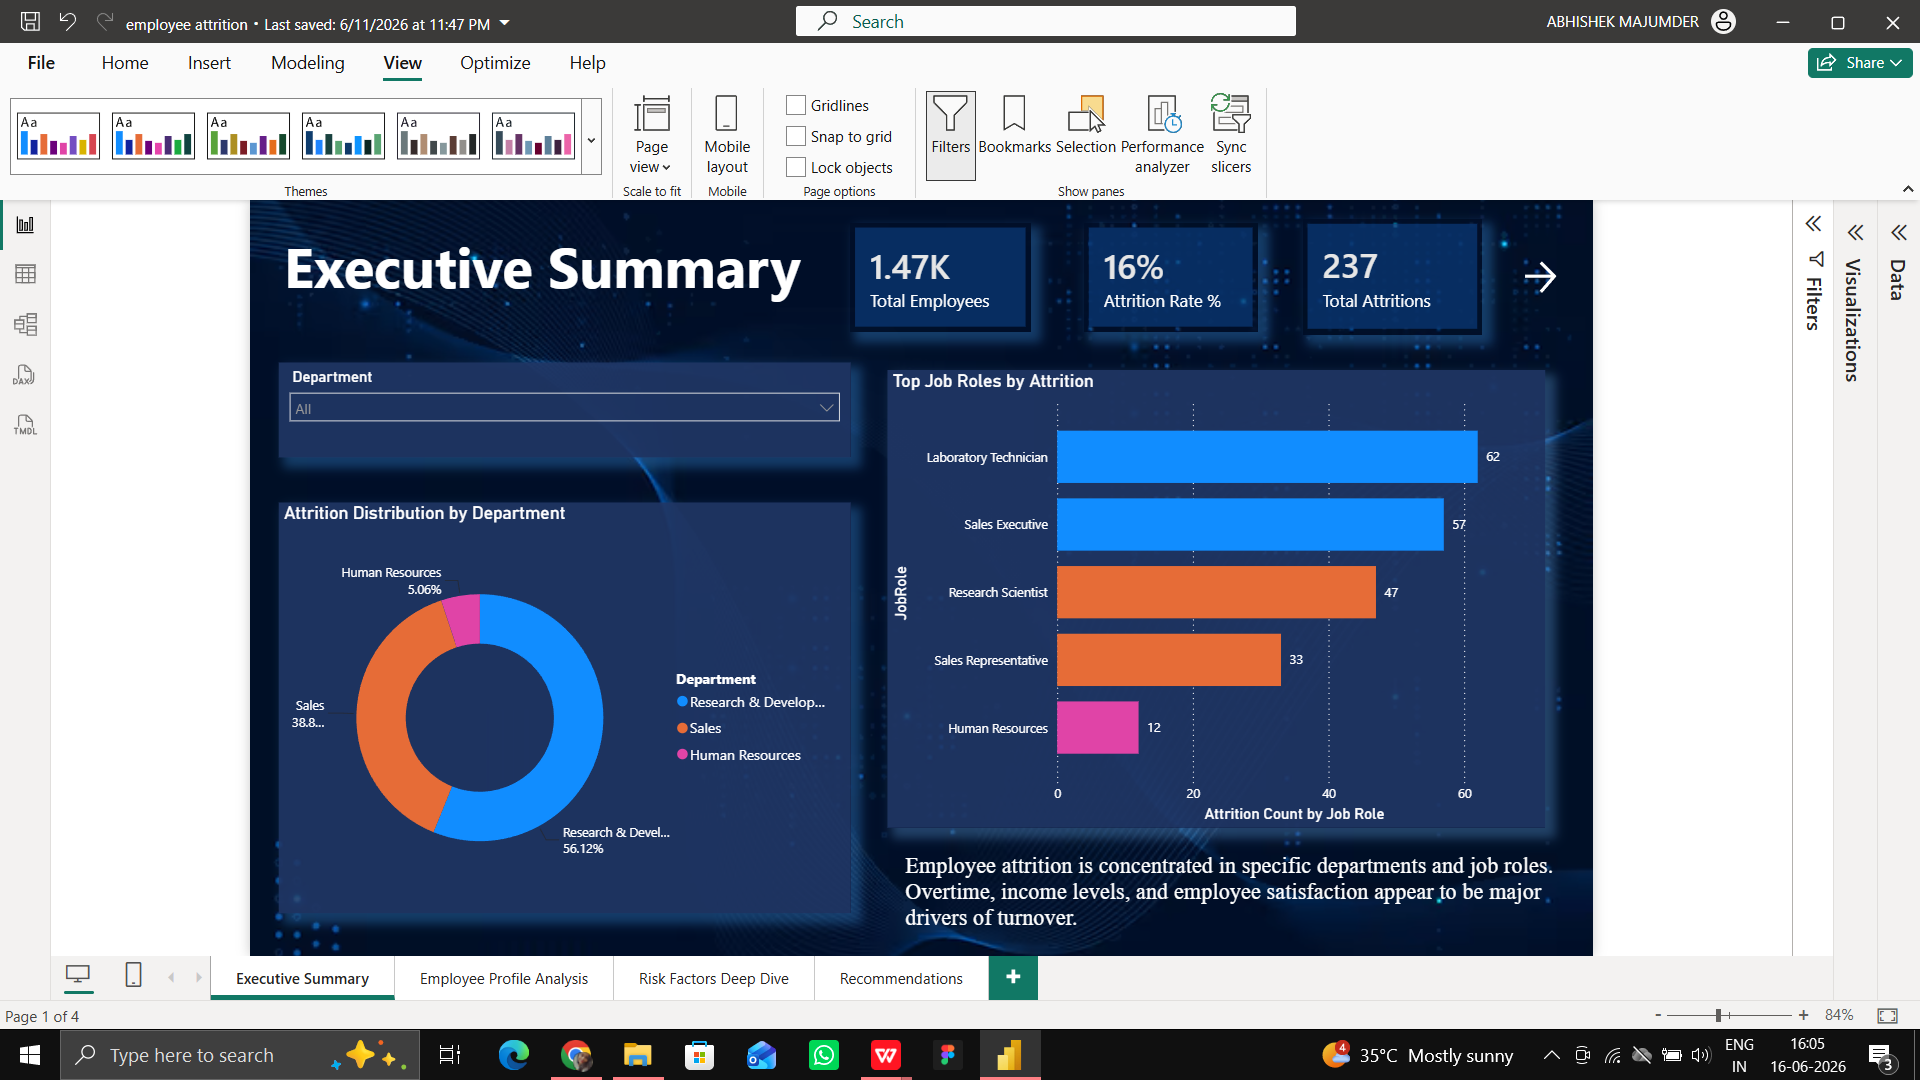

This screenshot's page, from the dashboard's own definition file:
{"tool":"powerbi","page":{"name":"Executive Summary","canvas":[1280,720],"ordinal":0},"visuals":[{"type":"textbox","box":[27.8,21.1,505.6,92.2],"z":0},{"type":"cardVisual","fields":{"Data":["Employee.Total Attritions"]},"box":[1002,18,171,110],"z":1000},{"type":"cardVisual","fields":{"Data":["Employee.Total Employees"]},"box":[572,21,172,104],"z":2000},{"type":"cardVisual","fields":{"Data":["Employee.Attrition Rate %"]},"box":[794,21,166,104],"z":3000},{"type":"donutChart","title":"Attrition Distribution by Department","fields":{"Category":["Employee.Department"],"Y":["Sum(Employee.Attrition Flag)"]},"box":[27.8,287.8,544.4,391.1],"z":4000},{"type":"clusteredBarChart","title":"Top Job Roles by Attrition","fields":{"Category":["Employee.JobRole"],"Y":["Sum(Employee.Attrition Flag)"]},"box":[607,162,626,436],"z":5000},{"type":"textbox","box":[619,617,643,95],"z":6000},{"type":"slicer","fields":{"Values":["Employee.Department"]},"box":[27.8,154.4,544.4,90],"z":7000},{"type":"actionButton","box":[1208,53,49,40],"z":8000}]}

Visuals, with their boxes on the page's 1280x720 design canvas (x1, y1, x2, y2). These are canvas units, not pixel positions in the 1920x1080 screenshot, which may show the page scaled, cropped or inside an application window:
textbox: x1=28 y1=21 x2=533 y2=113
cardVisual - Employee.Total Attritions: x1=1002 y1=18 x2=1173 y2=128
cardVisual - Employee.Total Employees: x1=572 y1=21 x2=744 y2=125
cardVisual - Employee.Attrition Rate %: x1=794 y1=21 x2=960 y2=125
"Attrition Distribution by Department" donutChart: x1=28 y1=288 x2=572 y2=679
"Top Job Roles by Attrition" clusteredBarChart: x1=607 y1=162 x2=1233 y2=598
textbox: x1=619 y1=617 x2=1262 y2=712
slicer - Employee.Department: x1=28 y1=154 x2=572 y2=244
actionButton: x1=1208 y1=53 x2=1257 y2=93
